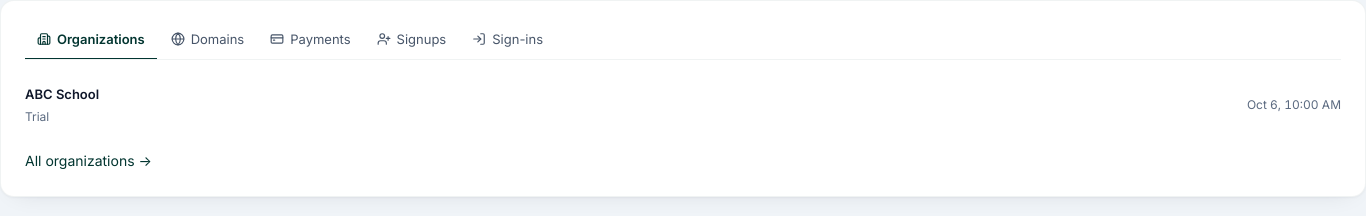
it: the dashboard’s recent lists › shows one list at a time and says what each sign-in is
The image size is (1366, 216).
Check: the link "ABC School" is shown, box [25,86,99,102]
Click the tab "Domains" at (208, 40), box [159,21,256,60]
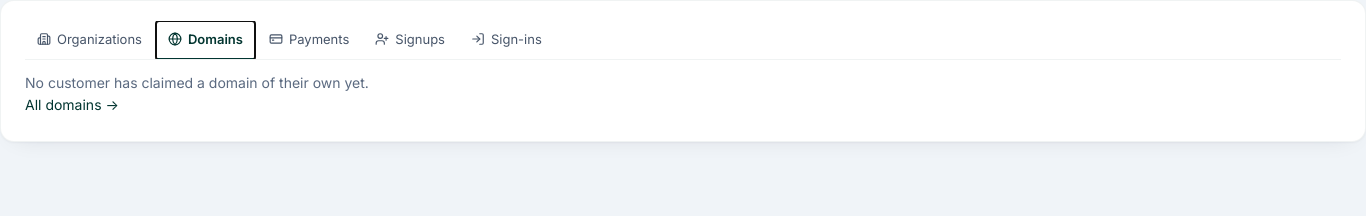
Check: the text "No customer has claimed a domain of their own yet." is shown, box [25,74,369,91]
Click the tab "Sign-ins" at (506, 40), box [459,21,554,60]
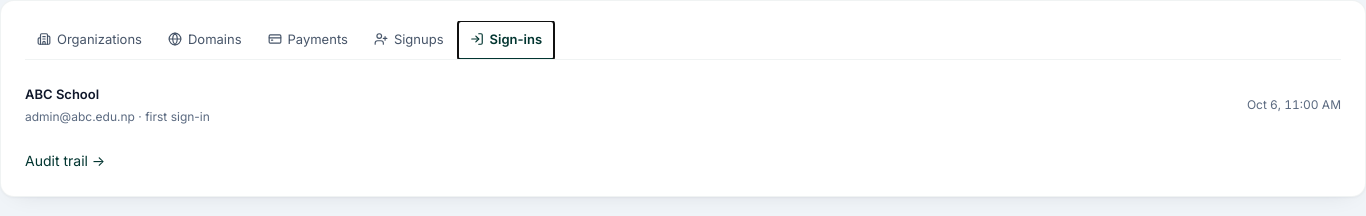
Check: the text "admin@abc.edu.np · first sign-in" is shown, box [25,109,210,124]
